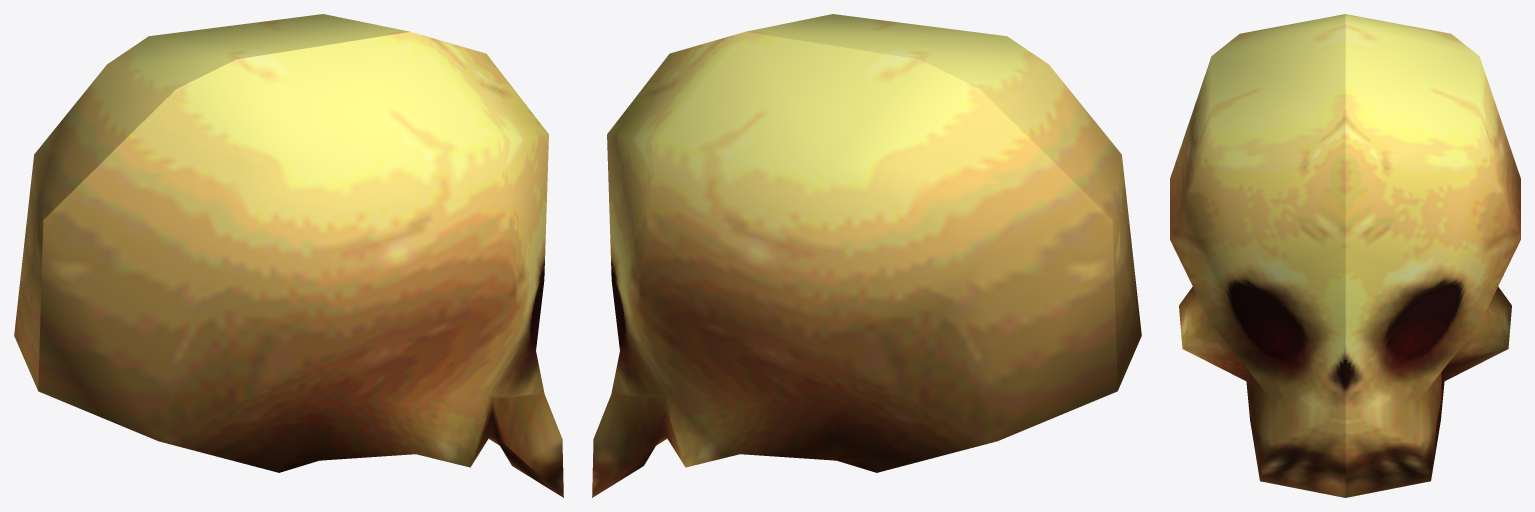
Rendered from Skull.fbx.
The picture shows the model from 3 angles, left to right: view 1: azimuth 30°, elevation 25°; view 2: azimuth 150°, elevation 25°; view 3: azimuth 270°, elevation 25°; orthographic projection. The views are drawn at different scales.
Parts seen in each view (by area): view 1: Skull; view 2: Skull; view 3: Skull.
Part boxes in pixels (<box>): Skull: <box>14,14,563,497</box>; Skull: <box>592,14,1141,497</box>; Skull: <box>1170,14,1520,497</box>.
Size of the model in its own units: 13.96 by 12.58 by 10.99.
